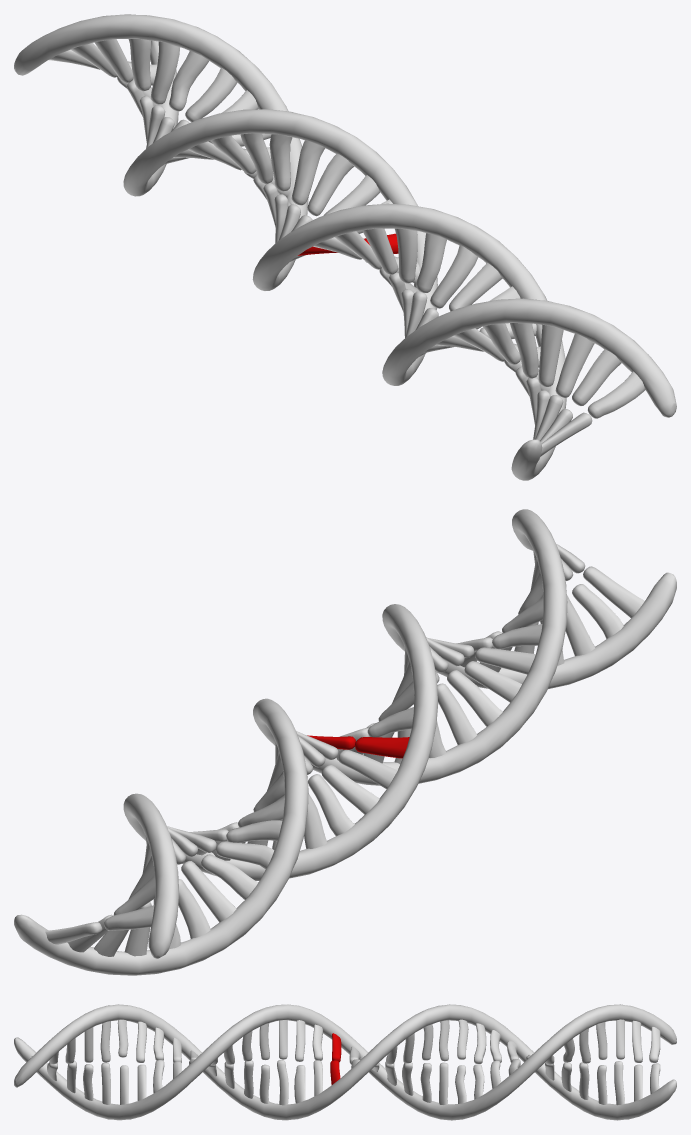
Rendered from helix2.glb.
3 renders of one model, top to bottom at view 1: azimuth 30°, elevation 25°; view 2: azimuth 150°, elevation 25°; view 3: azimuth 270°, elevation 25°, orthographic. The views are drawn at different scales.
Visible parts, largest first — view 1: Helix; view 2: Helix; view 3: Helix.
Part boxes in pixels (x1,y1,x2,y2): Helix: (14, 14, 676, 480); Helix: (14, 509, 676, 975); Helix: (14, 1004, 676, 1120).
Bounding box in the file's own units: 26.31 × 26.37 × 150.
